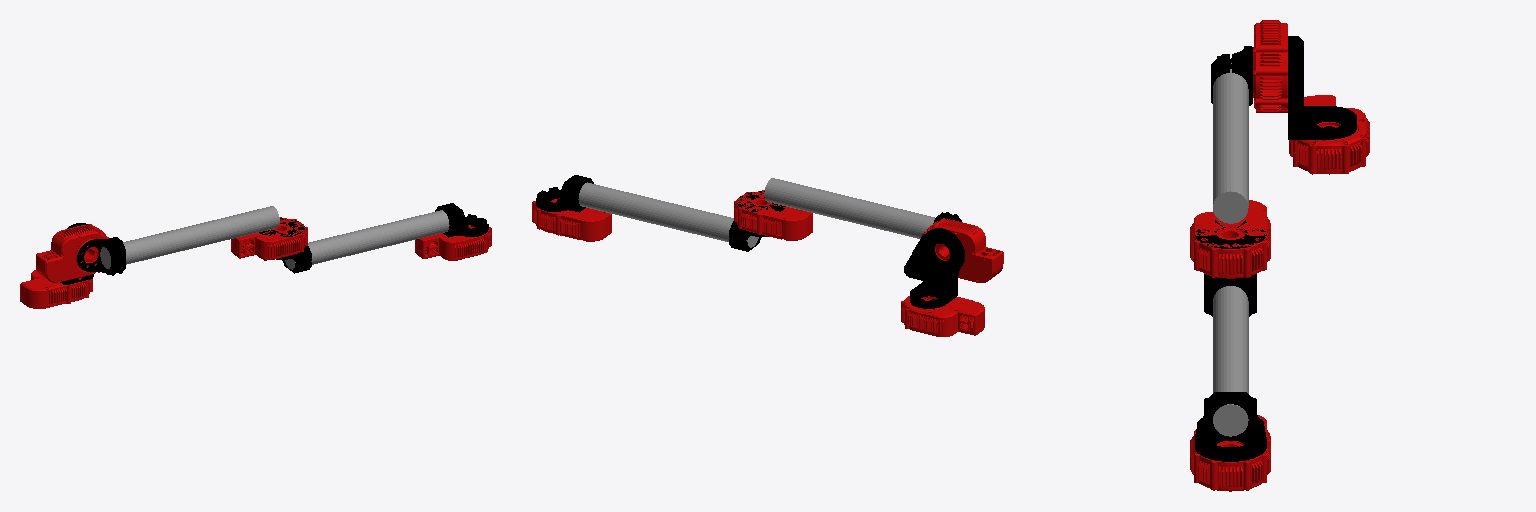
URDF robot description (scara_style_4_dof_arm):
<?xml version="1.0" ?>
<!-- =================================================================================== -->
<!-- |    This document was autogenerated by xacro from scara_style_4_dof_arm.xacro    | -->
<!-- |    EDITING THIS FILE BY HAND IS NOT RECOMMENDED                                 | -->
<!-- =================================================================================== -->
<robot name="scara_style_4_dof_arm" xmlns:xacro="http://www.ros.org/wiki/xacro">
  <!-- *************************** XACRO MACROS *************************** -->
  <!-- ************************* ROBOT DEFINITION ************************* -->
  <!-- world link -->
  <link name="world"/>
  <joint name="world_joint" type="fixed">
    <origin rpy="0 0 0" xyz="0 0 0"/>
    <parent link="world"/>
    <child link="HEBI/joint1/INPUT_INTERFACE"/>
  </joint>
  <link name="HEBI/joint1/INPUT_INTERFACE">
    <visual>
      <origin rpy="0 0 0" xyz="0 0 0"/>
      <geometry>
        <mesh filename="package://hebiros_description/meshes/x5.stl" scale="0.001 0.001 0.001"/>
      </geometry>
      <material name="red">
        <color rgba=".82 0.06 0.06 1"/>
      </material>
    </visual>
    <collision>
      <origin rpy="0 0 0" xyz="0 0 0"/>
      <geometry>
        <mesh filename="package://hebiros_description/meshes/x5.stl" scale="0.001 0.001 0.001"/>
      </geometry>
    </collision>
    <inertial>
      <origin rpy="0 0 0" xyz="-0.0142 -0.0031 0.0165"/>
      <mass value="0.335"/>
      <inertia ixx="0.00015" ixy="0.0000341" ixz="0.0000118" iyy="0.000255" iyz="0.00000229" izz="0.000350"/>
    </inertial>
  </link>
  <joint name="HEBI/joint1/X5_4" type="continuous">
    <parent link="HEBI/joint1/INPUT_INTERFACE"/>
    <child link="joint1_joint2/INPUT_INTERFACE"/>
    <origin rpy="0 0 0" xyz="0 0 0.031"/>
    <axis xyz="0 0 1"/>
    <limit effort="7.0" velocity="32"/>
    <dynamics damping="0.1" friction="0.1"/>
  </joint>
  <gazebo reference="HEBI/joint1/INPUT_INTERFACE">
    <selfCollide>true</selfCollide>
    <gravity>true</gravity>
    <sensor name="HEBI/joint1/imu_sensor" type="imu">
      <always_on>true</always_on>
      <update_rate>100</update_rate>
      <visualize>true</visualize>
      <plugin filename="libgazebo_ros_imu_sensor.so" name="imu_plugin">
        <topicName>/hebiros_gazebo_plugin/imu/HEBI/joint1</topicName>
        <bodyName>HEBI/joint1/imu_link</bodyName>
        <updateRateHZ>10.0</updateRateHZ>
        <gaussianNoise>0.0</gaussianNoise>
        <xyzOffset>0.025 0 0.003</xyzOffset>
        <rpyOffset>0 0 0</rpyOffset>
        <frameName>HEBI/joint1/imu_link</frameName>
      </plugin>
      <pose>0 0 0 0 0 0</pose>
    </sensor>
    <material>Gazebo/BlueGlow</material>
  </gazebo>
  <link name="joint1_joint2/INPUT_INTERFACE">
    <visual>
      <origin rpy="1.57079632679 0 1.57079632679" xyz="0 0 0.005"/>
      <geometry>
        <mesh filename="package://hebiros_description/meshes/PM-2149-01.stl" scale="0.001 0.001 0.001"/>
      </geometry>
      <material name="black">
        <color rgba="0 0 0 1"/>
      </material>
    </visual>
    <visual>
      <origin rpy="1.57079632679 0 0" xyz="0 -.03 .04"/>
      <geometry>
        <mesh filename="package://hebiros_description/meshes/PM-2150-01R.stl" scale="0.001 0.001 0.001"/>
      </geometry>
      <material name="black">
        <color rgba="0 0 0 1"/>
      </material>
    </visual>
    <collision>
      <origin rpy="1.57079632679 0 1.57079632679" xyz="0 0 0.005"/>
      <geometry>
        <mesh filename="package://hebiros_description/meshes/PM-2149-01.stl" scale="0.001 0.001 0.001"/>
      </geometry>
    </collision>
    <collision>
      <origin rpy="1.57079632679 0 0" xyz="0 -.03 .04"/>
      <geometry>
        <mesh filename="package://hebiros_description/meshes/PM-2150-01R.stl" scale="0.001 0.001 0.001"/>
      </geometry>
    </collision>
    <!-- NOTE: inertia is just modelled as small sphere, and could be improved. -->
    <inertial>
      <origin rpy="0 0 0" xyz="0 -0.01875 .0275"/>
      <mass value="0.215"/>
      <inertia ixx="0.0003096" ixy="0.0" ixz="0.0" iyy="0.0003096" iyz="0.0" izz="0.0003096"/>
    </inertial>
  </link>
  <joint name="joint1_joint2/OUTPUT_INTERFACE" type="fixed">
    <parent link="joint1_joint2/INPUT_INTERFACE"/>
    <child link="HEBI/joint2/INPUT_INTERFACE"/>
    <origin rpy="1.57079632679 0 0" xyz="0 -.0375 .055"/>
  </joint>
  <gazebo reference="joint1_joint2/INPUT_INTERFACE">
    <selfCollide>true</selfCollide>
  </gazebo>
  <link name="HEBI/joint2/INPUT_INTERFACE">
    <visual>
      <origin rpy="0 0 0" xyz="0 0 0"/>
      <geometry>
        <mesh filename="package://hebiros_description/meshes/x5.stl" scale="0.001 0.001 0.001"/>
      </geometry>
      <material name="red">
        <color rgba=".82 0.06 0.06 1"/>
      </material>
    </visual>
    <collision>
      <origin rpy="0 0 0" xyz="0 0 0"/>
      <geometry>
        <mesh filename="package://hebiros_description/meshes/x5.stl" scale="0.001 0.001 0.001"/>
      </geometry>
    </collision>
    <inertial>
      <origin rpy="0 0 0" xyz="-0.0142 -0.0031 0.0165"/>
      <mass value="0.335"/>
      <inertia ixx="0.00015" ixy="0.0000341" ixz="0.0000118" iyy="0.000255" iyz="0.00000229" izz="0.000350"/>
    </inertial>
  </link>
  <joint name="HEBI/joint2/X5_4" type="continuous">
    <parent link="HEBI/joint2/INPUT_INTERFACE"/>
    <child link="joint2_joint3/INPUT_INTERFACE"/>
    <origin rpy="0 0 0" xyz="0 0 0.031"/>
    <axis xyz="0 0 1"/>
    <limit effort="7.0" velocity="32"/>
    <dynamics damping="0.1" friction="0.1"/>
  </joint>
  <gazebo reference="HEBI/joint2/INPUT_INTERFACE">
    <selfCollide>true</selfCollide>
    <gravity>true</gravity>
    <sensor name="HEBI/joint2/imu_sensor" type="imu">
      <always_on>true</always_on>
      <update_rate>100</update_rate>
      <visualize>true</visualize>
      <plugin filename="libgazebo_ros_imu_sensor.so" name="imu_plugin">
        <topicName>/hebiros_gazebo_plugin/imu/HEBI/joint2</topicName>
        <bodyName>HEBI/joint2/imu_link</bodyName>
        <updateRateHZ>10.0</updateRateHZ>
        <gaussianNoise>0.0</gaussianNoise>
        <xyzOffset>0.025 0 0.003</xyzOffset>
        <rpyOffset>0 0 0</rpyOffset>
        <frameName>HEBI/joint2/imu_link</frameName>
      </plugin>
      <pose>0 0 0 0 0 0</pose>
    </sensor>
    <material>Gazebo/BlueGlow</material>
  </gazebo>
  <link name="joint2_joint3/INPUT_INTERFACE">
    <visual>
      <origin rpy="0 0 0" xyz="0 0 0"/>
      <geometry>
        <mesh filename="package://hebiros_description/meshes/A-2038-02.stl"/>
      </geometry>
      <material name="black">
        <color rgba="0 0 0 1"/>
      </material>
    </visual>
    <visual>
      <origin rpy="0 1.57075 0" xyz="0.15 0 0.02"/>
      <geometry>
        <cylinder length="0.2746" radius=".016"/>
      </geometry>
      <material name="silver">
        <color rgba="0.6 0.6 0.6 1"/>
      </material>
    </visual>
    <visual>
      <origin rpy="-1.57079632679 0 0" xyz="0.3 -0.02 0.02"/>
      <geometry>
        <mesh filename="package://hebiros_description/meshes/A-2039-02.stl"/>
      </geometry>
      <material name="black">
        <color rgba="0 0 0 1"/>
      </material>
    </visual>
    <collision>
      <origin rpy="0 0 0" xyz="0 0 0"/>
      <geometry>
        <mesh filename="package://hebiros_description/meshes/A-2038-02.stl"/>
      </geometry>
    </collision>
    <collision>
      <origin rpy="0 1.57075 0" xyz="0.15 0 0.02"/>
      <geometry>
        <cylinder length="0.2746" radius=".016"/>
      </geometry>
    </collision>
    <collision>
      <origin rpy="-1.57079632679 0 0" xyz="0.3 -0.02 0.02"/>
      <geometry>
        <mesh filename="package://hebiros_description/meshes/A-2039-02.stl"/>
      </geometry>
    </collision>
    <!-- Approximate inertia as thin rod about x axis -->
    <inertial>
      <origin rpy="0 0 0" xyz="0.15 0 0.02"/>
      <mass value="0.392"/>
      <inertia ixx="0.0" ixy="0.0" ixz="0.0" iyy="0.00294" iyz="0.0" izz="0.00294"/>
    </inertial>
  </link>
  <joint name="joint2_joint3/OUTPUT_JOINT" type="fixed">
    <parent link="joint2_joint3/INPUT_INTERFACE"/>
    <child link="HEBI/joint3/INPUT_INTERFACE"/>
    <origin rpy="1.57079632679 0 0" xyz="0.3 -0.02 0.02"/>
  </joint>
  <gazebo reference="joint2_joint3/INPUT_INTERFACE">
    <selfCollide>true</selfCollide>
    <material>Gazebo/FlatBlack</material>
  </gazebo>
  <link name="HEBI/joint3/INPUT_INTERFACE">
    <visual>
      <origin rpy="0 0 0" xyz="0 0 0"/>
      <geometry>
        <mesh filename="package://hebiros_description/meshes/x5.stl" scale="0.001 0.001 0.001"/>
      </geometry>
      <material name="red">
        <color rgba=".82 0.06 0.06 1"/>
      </material>
    </visual>
    <collision>
      <origin rpy="0 0 0" xyz="0 0 0"/>
      <geometry>
        <mesh filename="package://hebiros_description/meshes/x5.stl" scale="0.001 0.001 0.001"/>
      </geometry>
    </collision>
    <inertial>
      <origin rpy="0 0 0" xyz="-0.0142 -0.0031 0.0165"/>
      <mass value="0.335"/>
      <inertia ixx="0.00015" ixy="0.0000341" ixz="0.0000118" iyy="0.000255" iyz="0.00000229" izz="0.000350"/>
    </inertial>
  </link>
  <joint name="HEBI/joint3/X5_4" type="continuous">
    <parent link="HEBI/joint3/INPUT_INTERFACE"/>
    <child link="joint3_joint4/INPUT_INTERFACE"/>
    <origin rpy="0 0 0" xyz="0 0 0.031"/>
    <axis xyz="0 0 1"/>
    <limit effort="7.0" velocity="32"/>
    <dynamics damping="0.1" friction="0.1"/>
  </joint>
  <gazebo reference="HEBI/joint3/INPUT_INTERFACE">
    <selfCollide>true</selfCollide>
    <gravity>true</gravity>
    <sensor name="HEBI/joint3/imu_sensor" type="imu">
      <always_on>true</always_on>
      <update_rate>100</update_rate>
      <visualize>true</visualize>
      <plugin filename="libgazebo_ros_imu_sensor.so" name="imu_plugin">
        <topicName>/hebiros_gazebo_plugin/imu/HEBI/joint3</topicName>
        <bodyName>HEBI/joint3/imu_link</bodyName>
        <updateRateHZ>10.0</updateRateHZ>
        <gaussianNoise>0.0</gaussianNoise>
        <xyzOffset>0.025 0 0.003</xyzOffset>
        <rpyOffset>0 0 0</rpyOffset>
        <frameName>HEBI/joint3/imu_link</frameName>
      </plugin>
      <pose>0 0 0 0 0 0</pose>
    </sensor>
    <material>Gazebo/BlueGlow</material>
  </gazebo>
  <link name="joint3_joint4/INPUT_INTERFACE">
    <visual>
      <origin rpy="0 0 0" xyz="0 0 0"/>
      <geometry>
        <mesh filename="package://hebiros_description/meshes/A-2038-02.stl"/>
      </geometry>
      <material name="black">
        <color rgba="0 0 0 1"/>
      </material>
    </visual>
    <visual>
      <origin rpy="0 1.57075 0" xyz="0.15 0 0.02"/>
      <geometry>
        <cylinder length="0.2746" radius=".016"/>
      </geometry>
      <material name="silver">
        <color rgba="0.6 0.6 0.6 1"/>
      </material>
    </visual>
    <visual>
      <origin rpy="0 0 0" xyz="0.3 0.0 0.04"/>
      <geometry>
        <mesh filename="package://hebiros_description/meshes/A-2039-02.stl"/>
      </geometry>
      <material name="black">
        <color rgba="0 0 0 1"/>
      </material>
    </visual>
    <collision>
      <origin rpy="0 0 0" xyz="0 0 0"/>
      <geometry>
        <mesh filename="package://hebiros_description/meshes/A-2038-02.stl"/>
      </geometry>
    </collision>
    <collision>
      <origin rpy="0 1.57075 0" xyz="0.15 0 0.02"/>
      <geometry>
        <cylinder length="0.2746" radius=".016"/>
      </geometry>
    </collision>
    <collision>
      <origin rpy="0 0 0" xyz="0.3 0.0 0.04"/>
      <geometry>
        <mesh filename="package://hebiros_description/meshes/A-2039-02.stl"/>
      </geometry>
    </collision>
    <!-- Approximate inertia as thin rod about x axis -->
    <inertial>
      <origin rpy="0 0 0" xyz="0.15 0 0.02"/>
      <mass value="0.392"/>
      <inertia ixx="0.0" ixy="0.0" ixz="0.0" iyy="0.00294" iyz="0.0" izz="0.00294"/>
    </inertial>
  </link>
  <joint name="joint3_joint4/OUTPUT_JOINT" type="fixed">
    <parent link="joint3_joint4/INPUT_INTERFACE"/>
    <child link="HEBI/joint4/INPUT_INTERFACE"/>
    <origin rpy="0 0 0" xyz="0.3 -0.0 0.04"/>
  </joint>
  <gazebo reference="joint3_joint4/INPUT_INTERFACE">
    <selfCollide>true</selfCollide>
    <material>Gazebo/FlatBlack</material>
  </gazebo>
  <link name="HEBI/joint4/INPUT_INTERFACE">
    <visual>
      <origin rpy="0 0 0" xyz="0 0 0"/>
      <geometry>
        <mesh filename="package://hebiros_description/meshes/x5.stl" scale="0.001 0.001 0.001"/>
      </geometry>
      <material name="red">
        <color rgba=".82 0.06 0.06 1"/>
      </material>
    </visual>
    <collision>
      <origin rpy="0 0 0" xyz="0 0 0"/>
      <geometry>
        <mesh filename="package://hebiros_description/meshes/x5.stl" scale="0.001 0.001 0.001"/>
      </geometry>
    </collision>
    <inertial>
      <origin rpy="0 0 0" xyz="-0.0142 -0.0031 0.0165"/>
      <mass value="0.335"/>
      <inertia ixx="0.00015" ixy="0.0000341" ixz="0.0000118" iyy="0.000255" iyz="0.00000229" izz="0.000350"/>
    </inertial>
  </link>
  <joint name="HEBI/joint4/X5_4" type="continuous">
    <parent link="HEBI/joint4/INPUT_INTERFACE"/>
    <child link="end_effector/INPUT_INTERFACE"/>
    <origin rpy="0 0 0" xyz="0 0 0.031"/>
    <axis xyz="0 0 1"/>
    <limit effort="7.0" velocity="32"/>
    <dynamics damping="0.1" friction="0.1"/>
  </joint>
  <gazebo reference="HEBI/joint4/INPUT_INTERFACE">
    <selfCollide>true</selfCollide>
    <gravity>true</gravity>
    <sensor name="HEBI/joint4/imu_sensor" type="imu">
      <always_on>true</always_on>
      <update_rate>100</update_rate>
      <visualize>true</visualize>
      <plugin filename="libgazebo_ros_imu_sensor.so" name="imu_plugin">
        <topicName>/hebiros_gazebo_plugin/imu/HEBI/joint4</topicName>
        <bodyName>HEBI/joint4/imu_link</bodyName>
        <updateRateHZ>10.0</updateRateHZ>
        <gaussianNoise>0.0</gaussianNoise>
        <xyzOffset>0.025 0 0.003</xyzOffset>
        <rpyOffset>0 0 0</rpyOffset>
        <frameName>HEBI/joint4/imu_link</frameName>
      </plugin>
      <pose>0 0 0 0 0 0</pose>
    </sensor>
    <material>Gazebo/BlueGlow</material>
  </gazebo>
  <!-- end link -->
  <link name="end_effector/INPUT_INTERFACE">
  </link>
  <gazebo>
    <plugin filename="libhebiros_gazebo_plugin.so" name="hebiros_gazebo_plugin">
    </plugin>
  </gazebo>
</robot>

--- Render facts (derived) ---
Views: 3 orthographic renders of the robot side by side, from view 1: azimuth 30°, elevation 25°; view 2: azimuth 150°, elevation 25°; view 3: azimuth 270°, elevation 25°.
Robot: scara_style_4_dof_arm — 9 links, 8 joints (4 continuous, 4 fixed); root link world; default pose: every joint at zero.
Links seen in each view (by area): view 1: joint2_joint3/INPUT_INTERFACE, joint3_joint4/INPUT_INTERFACE, HEBI/joint2/INPUT_INTERFACE, HEBI/joint3/INPUT_INTERFACE, HEBI/joint1/INPUT_INTERFACE, HEBI/joint4/INPUT_INTERFACE; view 2: joint3_joint4/INPUT_INTERFACE, joint2_joint3/INPUT_INTERFACE, joint1_joint2/INPUT_INTERFACE, HEBI/joint1/INPUT_INTERFACE, HEBI/joint3/INPUT_INTERFACE, HEBI/joint2/INPUT_INTERFACE, HEBI/joint4/INPUT_INTERFACE; view 3: joint3_joint4/INPUT_INTERFACE, joint2_joint3/INPUT_INTERFACE, HEBI/joint3/INPUT_INTERFACE, HEBI/joint1/INPUT_INTERFACE, joint1_joint2/INPUT_INTERFACE, HEBI/joint2/INPUT_INTERFACE, HEBI/joint4/INPUT_INTERFACE.
Boxes of the visible links, x1,y1,x2,y2 form: joint2_joint3/INPUT_INTERFACE: (77,206,304,275); joint3_joint4/INPUT_INTERFACE: (276,203,488,273); HEBI/joint2/INPUT_INTERFACE: (36,224,108,282); HEBI/joint3/INPUT_INTERFACE: (231,217,307,259); HEBI/joint1/INPUT_INTERFACE: (20,270,92,308); HEBI/joint4/INPUT_INTERFACE: (415,225,491,260); joint3_joint4/INPUT_INTERFACE: (536,175,768,251); joint2_joint3/INPUT_INTERFACE: (737,178,961,238); joint1_joint2/INPUT_INTERFACE: (904,228,964,308); HEBI/joint1/INPUT_INTERFACE: (901,296,984,336); HEBI/joint3/INPUT_INTERFACE: (734,190,812,240); HEBI/joint2/INPUT_INTERFACE: (922,218,1003,282); HEBI/joint4/INPUT_INTERFACE: (532,198,611,241); joint3_joint4/INPUT_INTERFACE: (1195,274,1266,461); joint2_joint3/INPUT_INTERFACE: (1195,46,1266,248); HEBI/joint3/INPUT_INTERFACE: (1190,200,1270,278); HEBI/joint1/INPUT_INTERFACE: (1289,95,1369,174); joint1_joint2/INPUT_INTERFACE: (1288,36,1356,139); HEBI/joint2/INPUT_INTERFACE: (1253,20,1287,112); HEBI/joint4/INPUT_INTERFACE: (1190,415,1270,491).
Bounding box of the posed robot: 0.7096 × 0.1615 × 0.1585 m (x, y, z).
Meshes: 5 distinct files referenced, 10 mesh visuals loaded (5 binary STL).